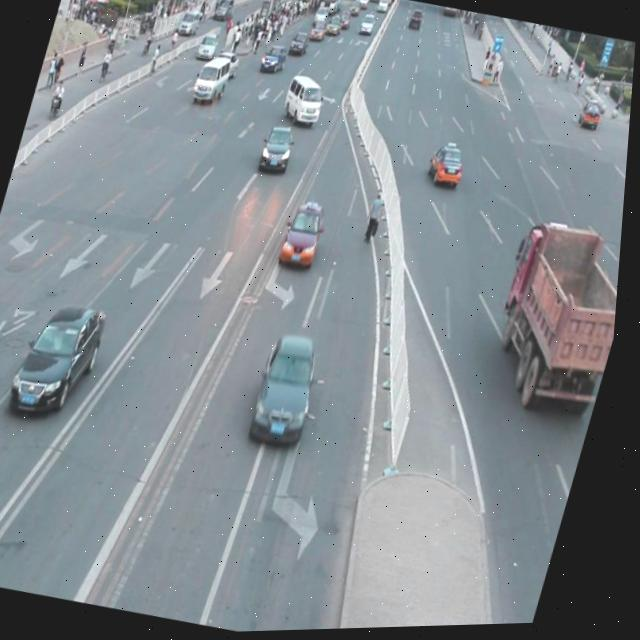bus: (485, 218, 626, 423)
car: (10, 294, 116, 424), (250, 329, 333, 451), (278, 198, 332, 272), (425, 140, 471, 192), (257, 122, 299, 178)
truck: (280, 71, 330, 129), (190, 52, 235, 109)
